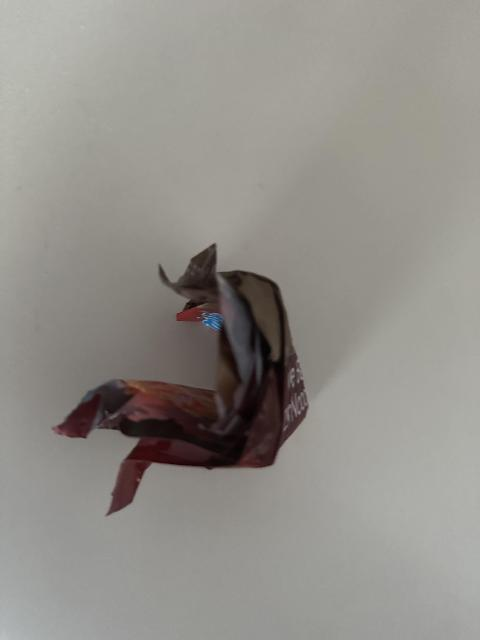Plastik: (54, 246, 306, 517)
